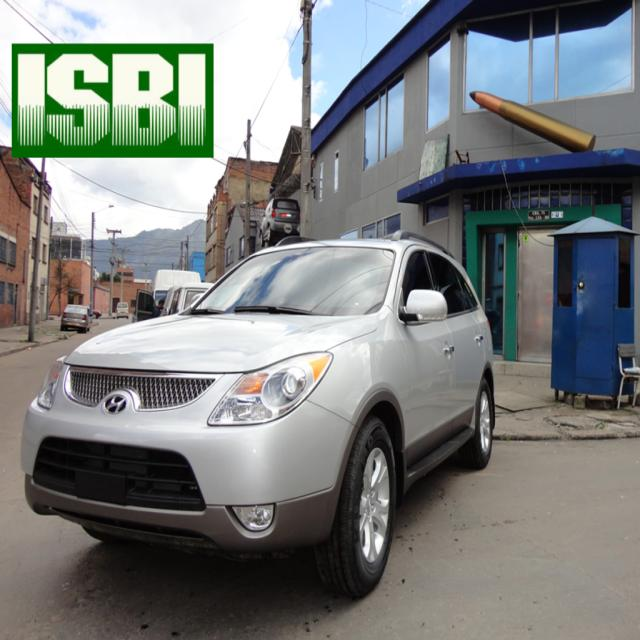car: (19, 227, 493, 602), (60, 301, 93, 333), (115, 300, 129, 318)
